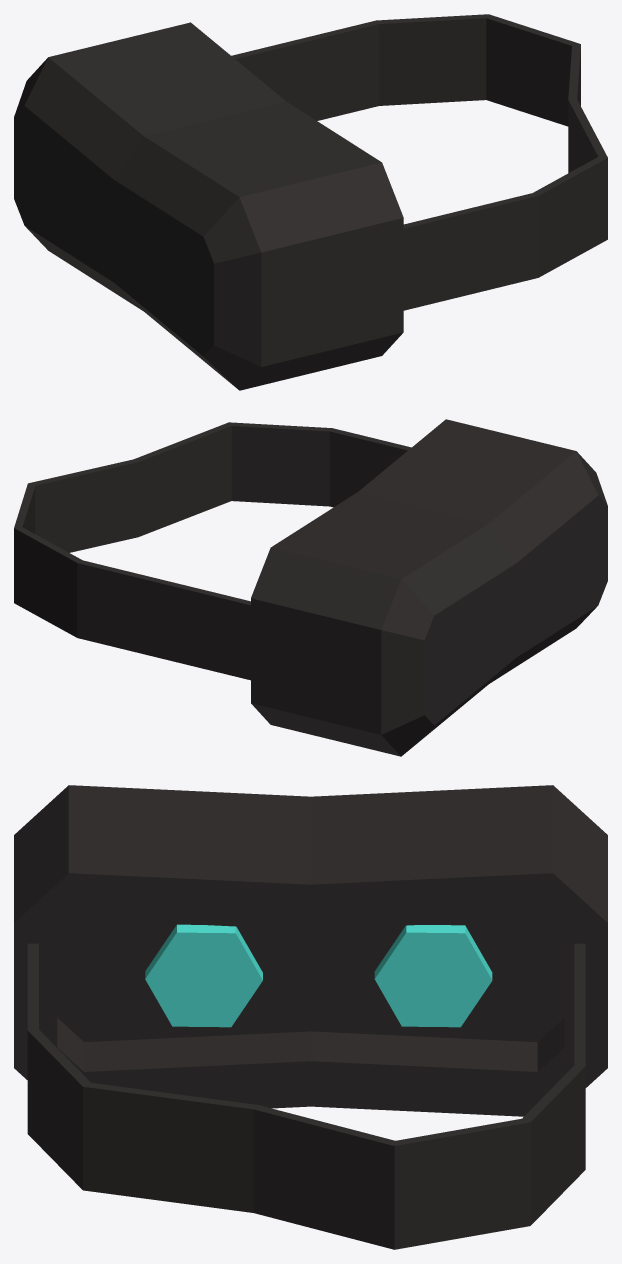
Rendered from VRGoggles.fbx.
3 renders of one model, top to bottom at view 1: azimuth 30°, elevation 25°; view 2: azimuth 150°, elevation 25°; view 3: azimuth 270°, elevation 25°, orthographic. The views are drawn at different scales.
Visible parts, largest first — view 1: VRGoggles; view 2: VRGoggles; view 3: VRGoggles.
Boxes of the visible parts, x1,y1,x2,y2 form: VRGoggles: (14, 14, 607, 390); VRGoggles: (14, 419, 607, 756); VRGoggles: (14, 785, 607, 1249).
Size of the model in its own units: 32.41 by 11.99 by 26.35.
